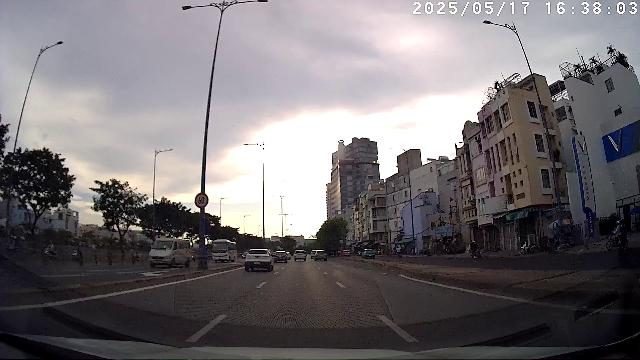127-toc-do-toi-da-60: (194, 192, 209, 208)
